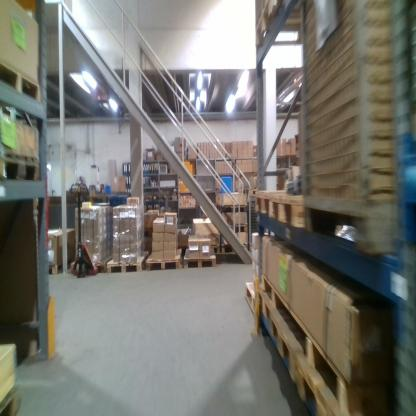pallet: (288, 305, 355, 415), (295, 352, 344, 414), (267, 306, 301, 377), (1, 58, 44, 108), (1, 150, 40, 194), (271, 192, 311, 228), (260, 273, 288, 319), (106, 249, 148, 275), (147, 250, 181, 272), (184, 247, 218, 268), (251, 188, 271, 218), (245, 282, 261, 319), (1, 384, 20, 415), (49, 265, 63, 277)
pallet_truck: (67, 179, 102, 281)
stillage: (299, 1, 396, 265), (246, 197, 263, 254)
